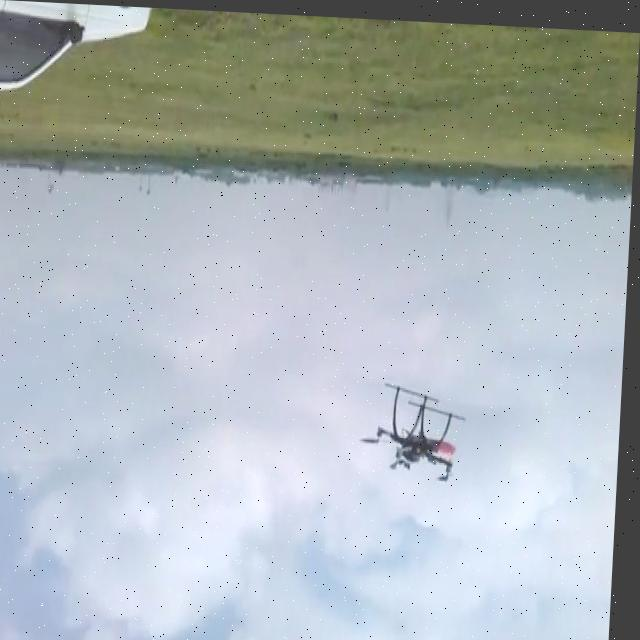drone: (361, 376, 475, 483)
